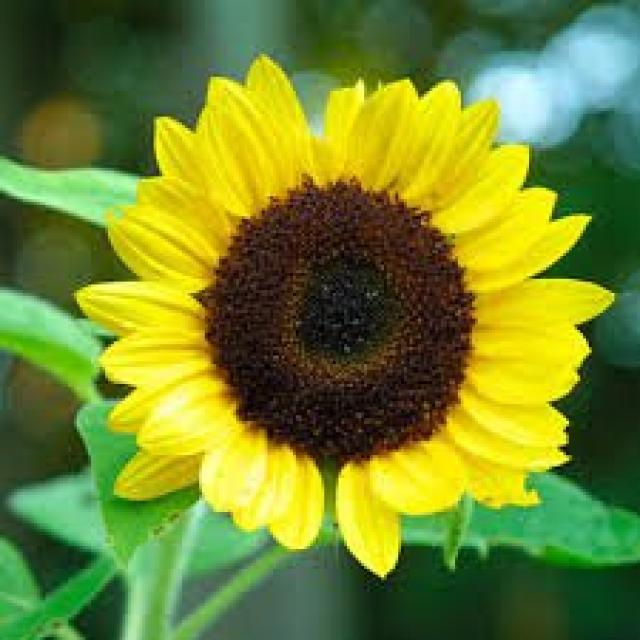sunflower: (72, 48, 616, 583)
